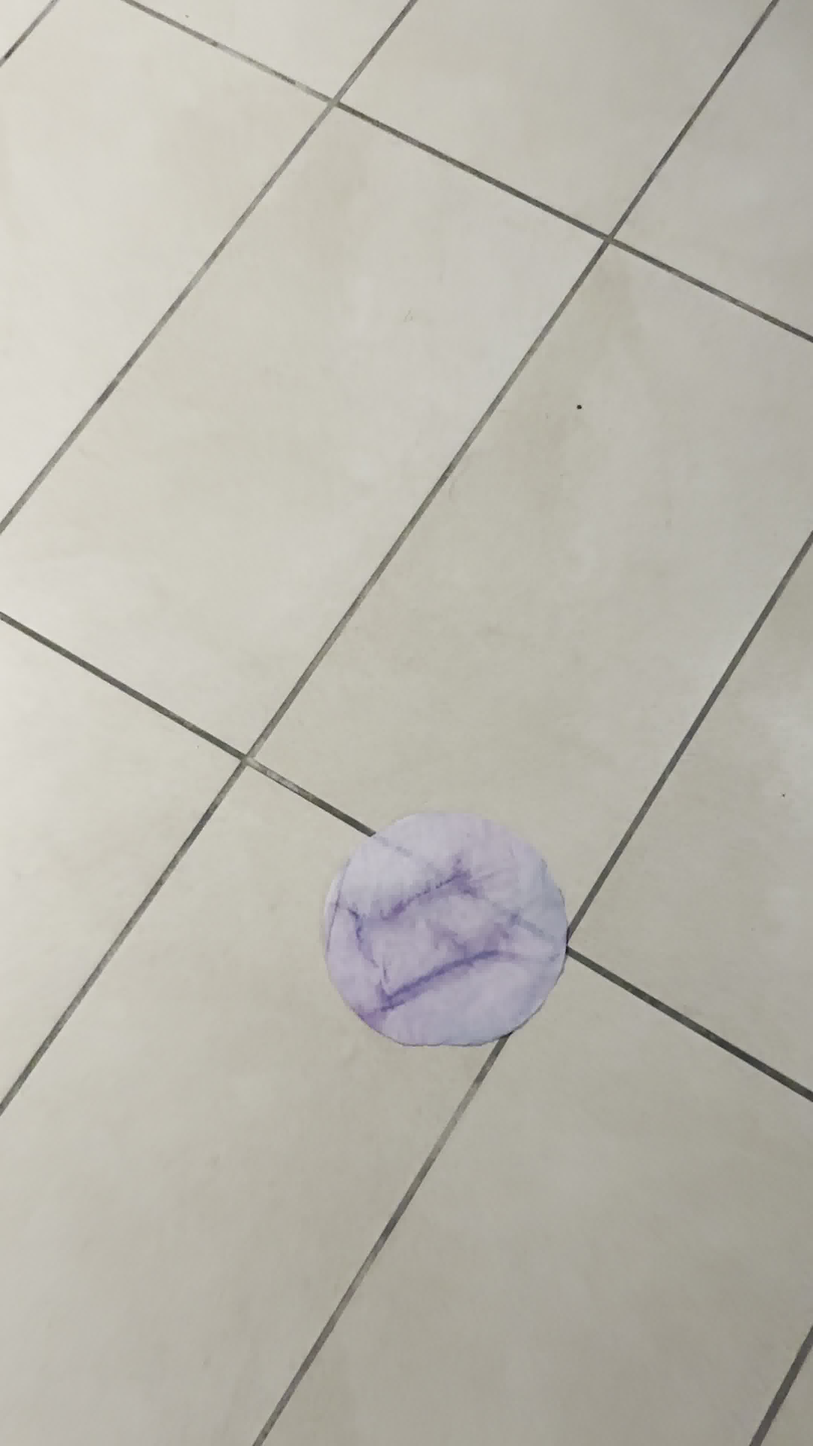Target: (317, 820, 567, 1048)
